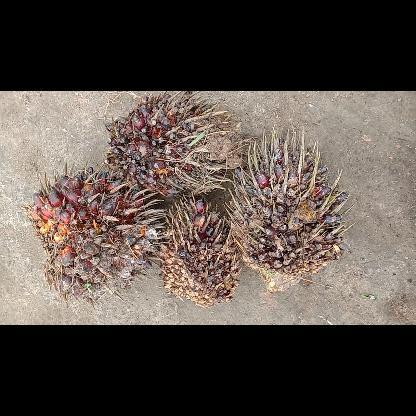TBS abnormal: (233, 126, 347, 292), (107, 91, 232, 197), (160, 196, 242, 306)
TBS masak: (31, 168, 164, 294)
